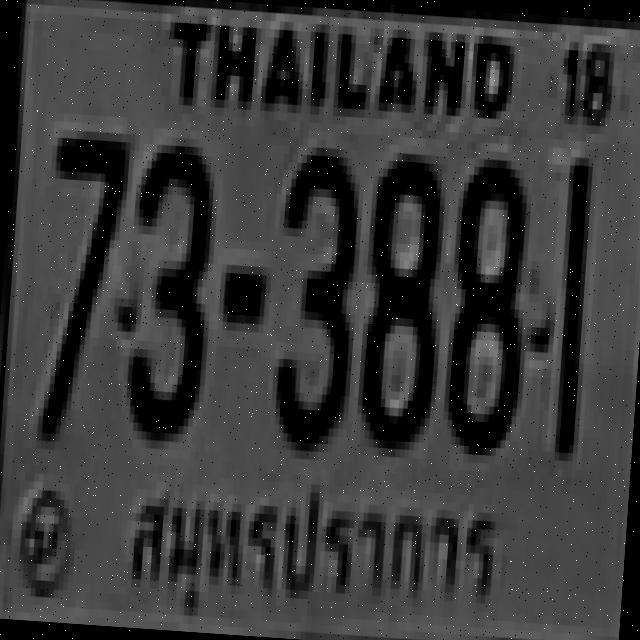1: (550, 156, 592, 452), (552, 156, 590, 452)
3: (117, 134, 214, 434), (266, 141, 359, 449)
7: (32, 120, 126, 437)
8: (442, 148, 530, 448), (355, 142, 443, 442)
SamutPrakan: (112, 459, 512, 621)
